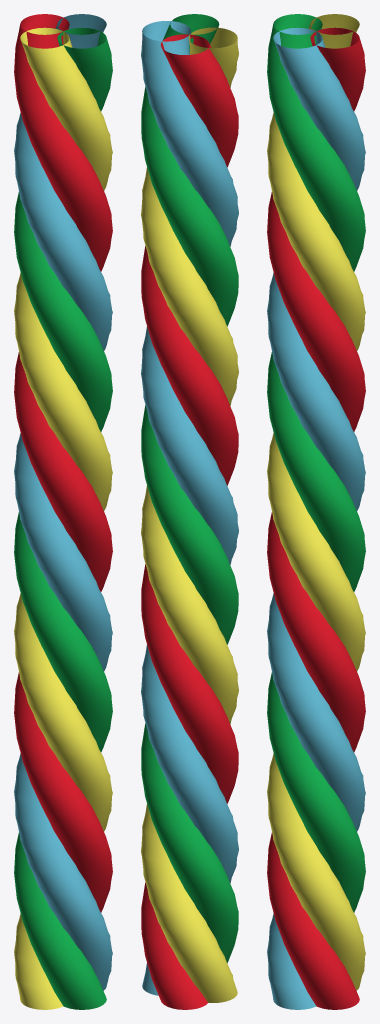
Rendered from island-winter-house-pillar.glb.
3 views of the same model, side by side, from view 1: azimuth 90°, elevation 25°; view 2: azimuth 210°, elevation 25°; view 3: azimuth 270°, elevation 25° (orthographic).
Parts seen in each view (by area): view 1: door.pillar; view 2: door.pillar; view 3: door.pillar.
Boxes of the visible parts, box(x1,y1,x2,y2) form: door.pillar: box(14, 14, 112, 1009); door.pillar: box(141, 14, 238, 1009); door.pillar: box(267, 14, 365, 1009).
Bounding box in the file's own units: 0.0513 × 0.5502 × 0.0513.
